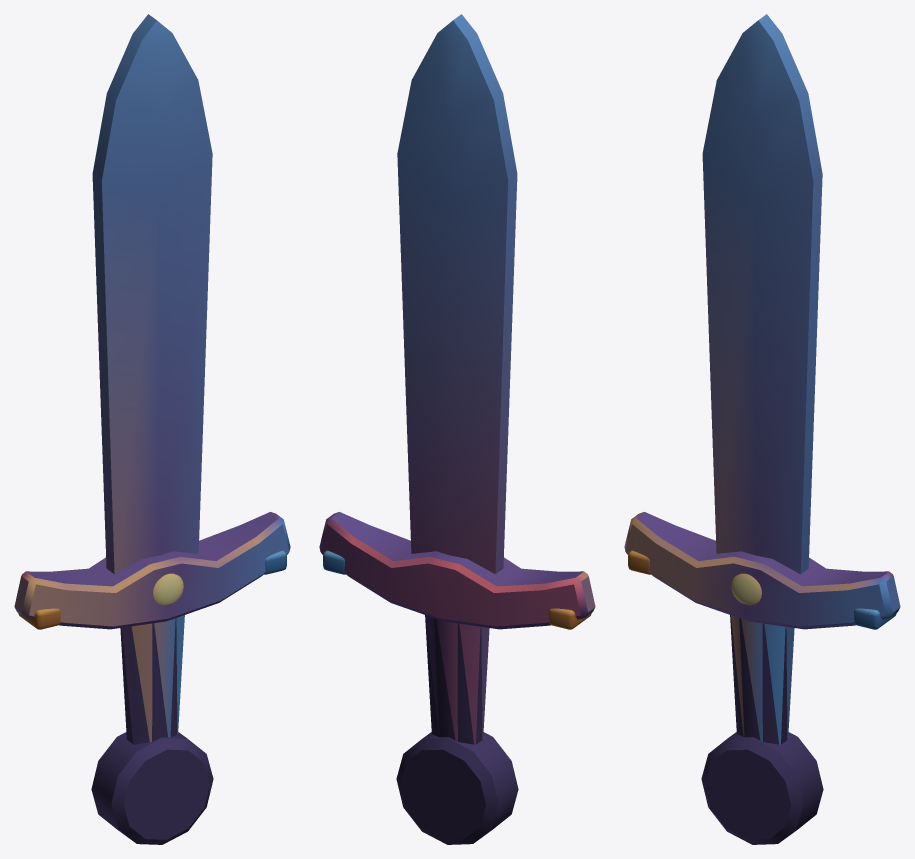
File: Fusion_Sword.glb
3 views of the same model, side by side, from view 1: azimuth 30°, elevation 25°; view 2: azimuth 150°, elevation 25°; view 3: azimuth 330°, elevation 25° (orthographic).
Parts seen in each view (by area): view 1: Fusion_Sword; view 2: Fusion_Sword; view 3: Fusion_Sword.
Boxes of the visible parts, box(x1,y1,x2,y2) form: Fusion_Sword: box(14, 14, 290, 844); Fusion_Sword: box(319, 14, 595, 844); Fusion_Sword: box(624, 14, 900, 844).
Size of the model in its own units: 0.6077 by 1.77 by 0.1333.
